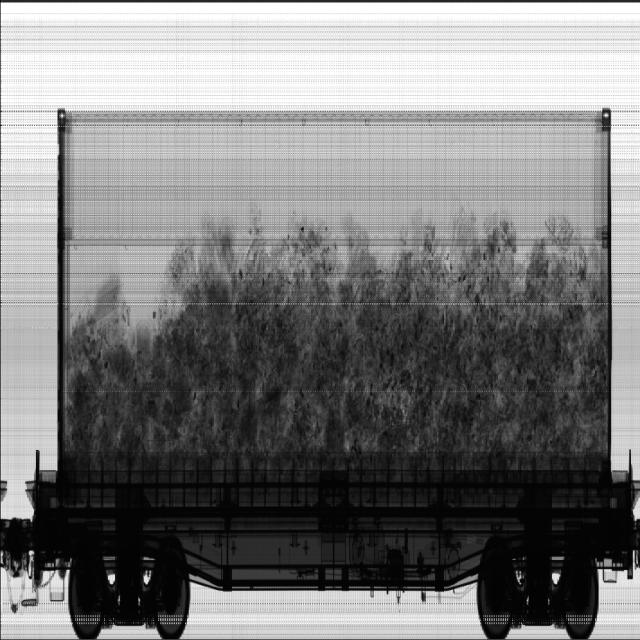textiles: (66, 206, 606, 458)
